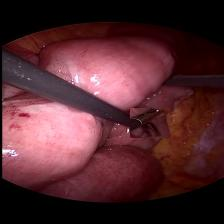Grasper: (129, 108, 169, 138)
